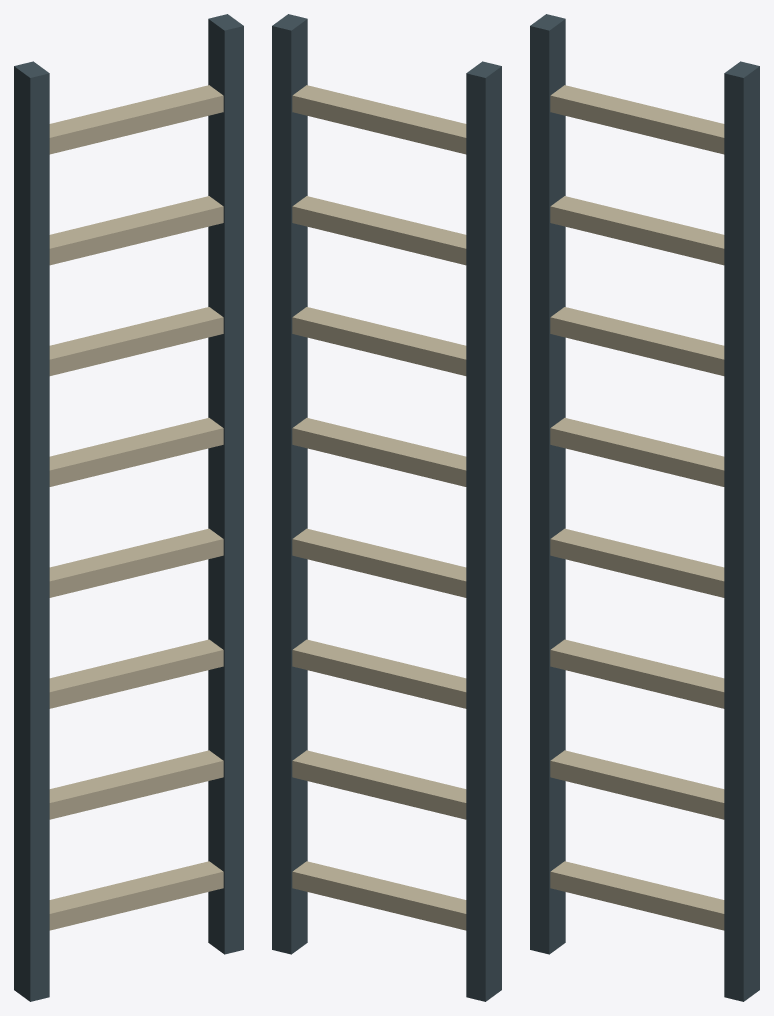
Rendered from ladder.glb.
3 views of the same model, side by side, from view 1: azimuth 30°, elevation 25°; view 2: azimuth 150°, elevation 25°; view 3: azimuth 330°, elevation 25° (orthographic).
Visible parts, largest first — view 1: ladder; view 2: ladder; view 3: ladder.
Boxes of the visible parts, box(x1,y1,x2,y2) form: ladder: box(14, 14, 243, 1001); ladder: box(272, 14, 501, 1001); ladder: box(530, 14, 759, 1001).
Bounding box in the file's own units: 0.605 × 2.5 × 0.08.
